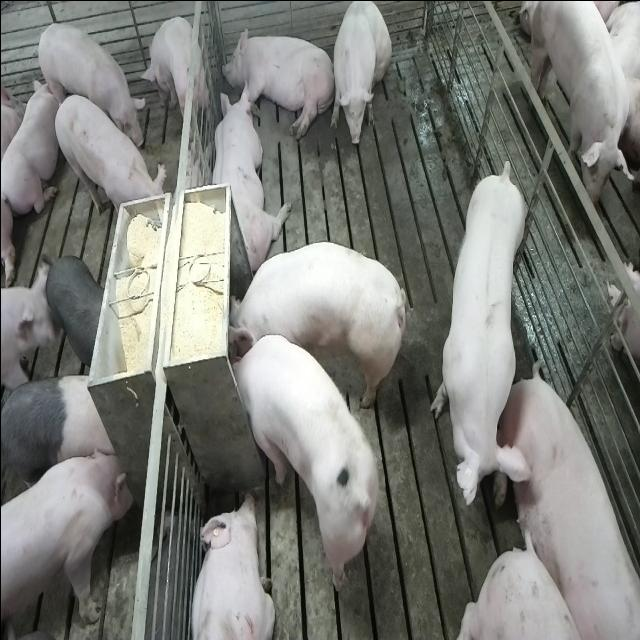Feeding: (221, 330, 376, 590), (220, 238, 398, 408)
Lateral_lying: (222, 22, 335, 140)
Sitting: (329, 0, 390, 148)
Standing: (428, 154, 528, 514), (2, 446, 134, 640), (525, 0, 640, 219), (2, 370, 122, 519), (52, 90, 165, 226), (36, 19, 146, 148), (138, 13, 204, 132), (44, 251, 106, 368)
Sternal_lying: (208, 79, 288, 275), (186, 490, 273, 640), (3, 74, 60, 216)
